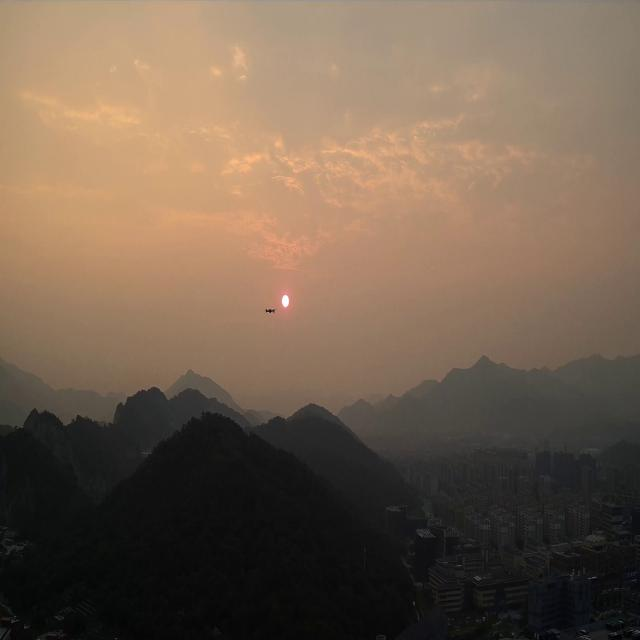UAV: (265, 307, 277, 314)
